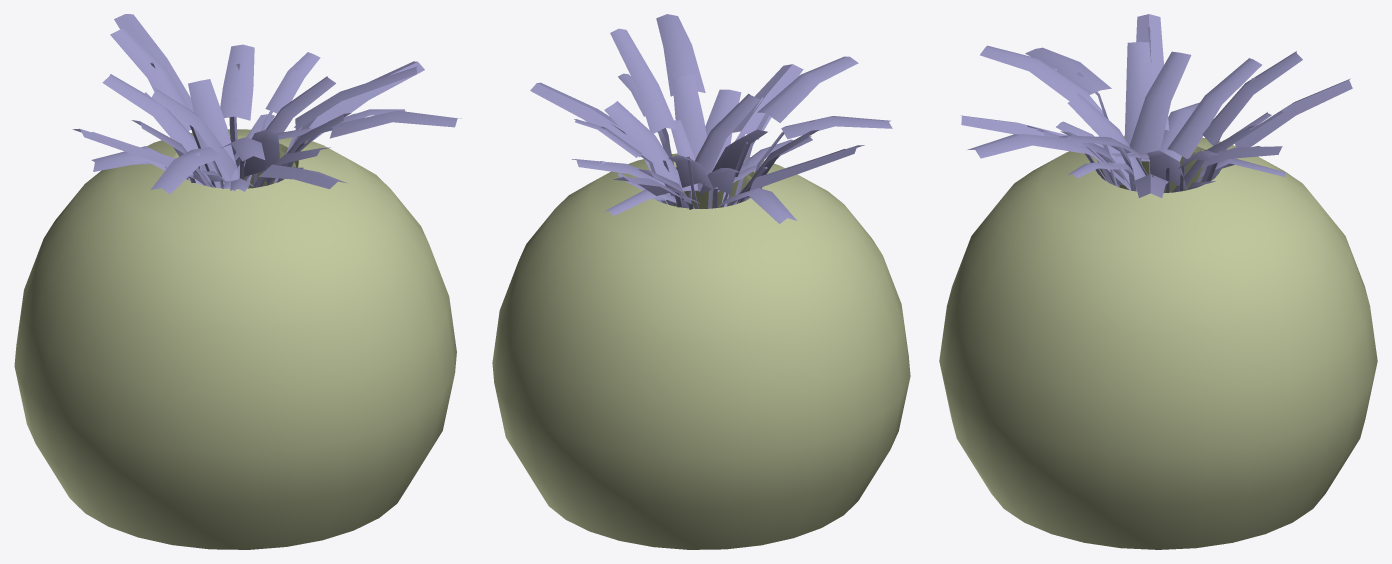
File: Plant05.FBX
The picture shows the model from 3 angles, left to right: view 1: azimuth 30°, elevation 25°; view 2: azimuth 150°, elevation 25°; view 3: azimuth 270°, elevation 25°; orthographic projection. The views are drawn at different scales.
Visible parts, largest first — view 1: Plant05; view 2: Plant05; view 3: Plant05.
Part boxes in pixels (left/top/right/bottom): Plant05: left=14, top=14, right=461, bottom=549; Plant05: left=492, top=14, right=910, bottom=549; Plant05: left=939, top=14, right=1377, bottom=549.
Size of the model in its own units: 28.43 by 28.43 by 29.1.
